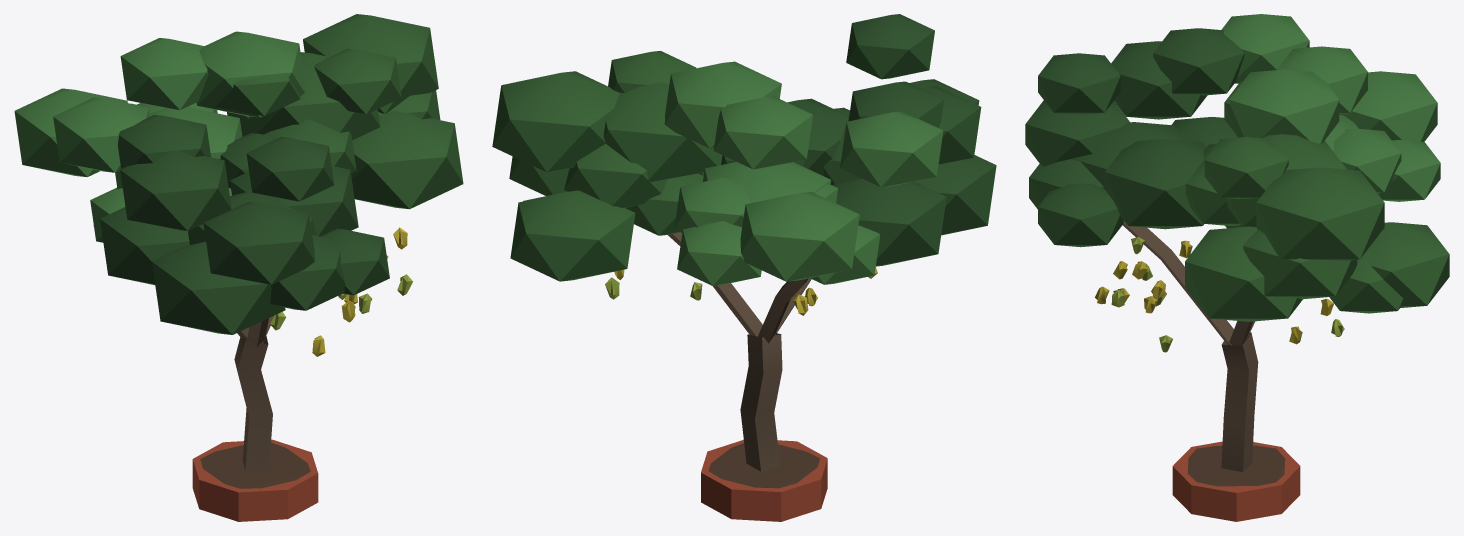
Rendered from cay_khe.glb.
The picture shows the model from 3 angles, left to right: view 1: azimuth 30°, elevation 25°; view 2: azimuth 150°, elevation 25°; view 3: azimuth 270°, elevation 25°; orthographic projection. The views are drawn at different scales.
Visible parts, largest first — view 1: cay_khe; view 2: cay_khe; view 3: cay_khe.
Part boxes in pixels (box(x1,y1,x2,y2)): cay_khe: box(14, 14, 463, 521); cay_khe: box(492, 14, 996, 521); cay_khe: box(1025, 14, 1449, 521).
Bounding box in the file's own units: 3.56 × 3.74 × 3.32.
